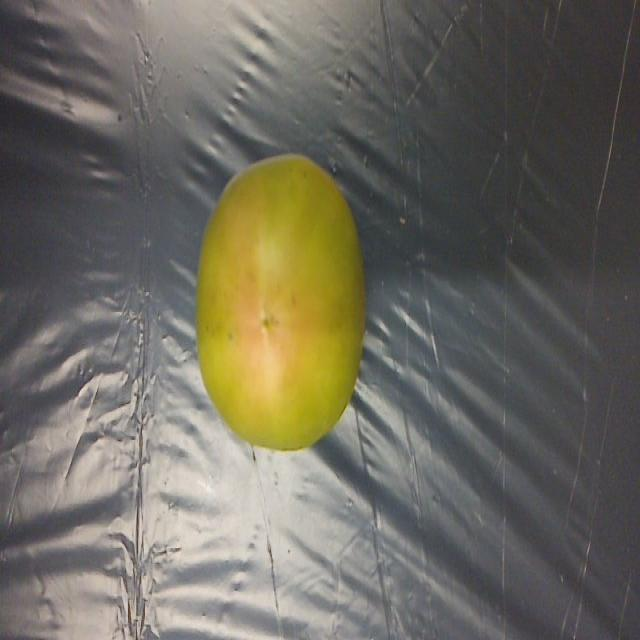yesil: (186, 133, 371, 461)
